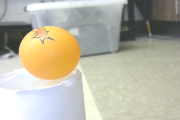PingPongBall: (20, 26, 80, 80)
